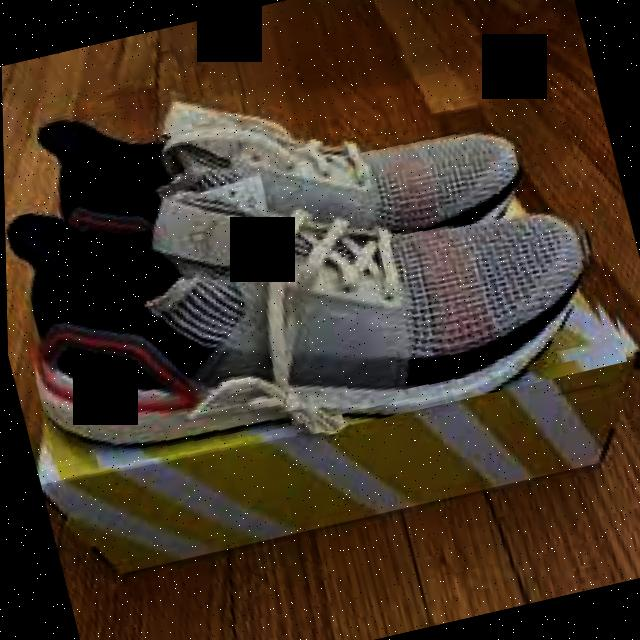shoe: (0, 2, 618, 478), (1, 83, 628, 489)
